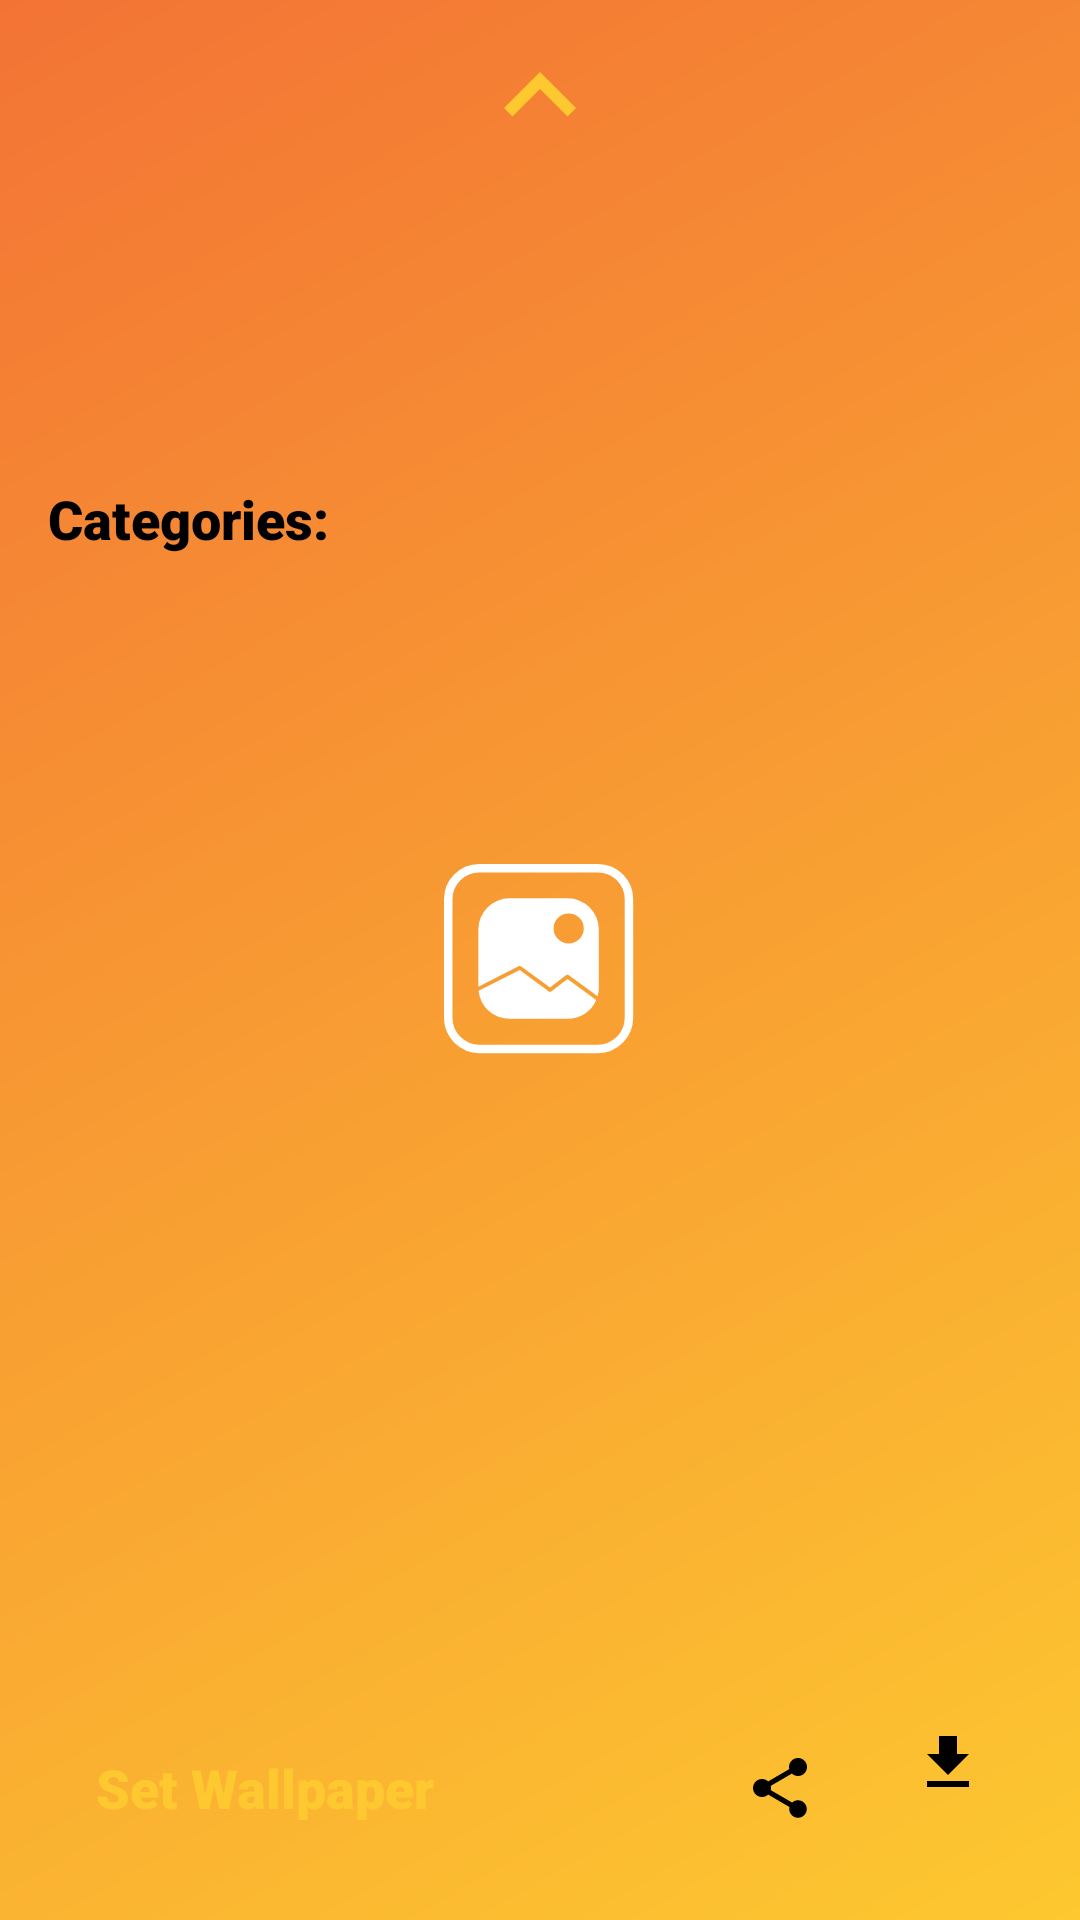

Named icons in this screenshot (1080 × 1920) and their centers, point (x, y):
download: point (948, 1761)
share: point (780, 1788)
